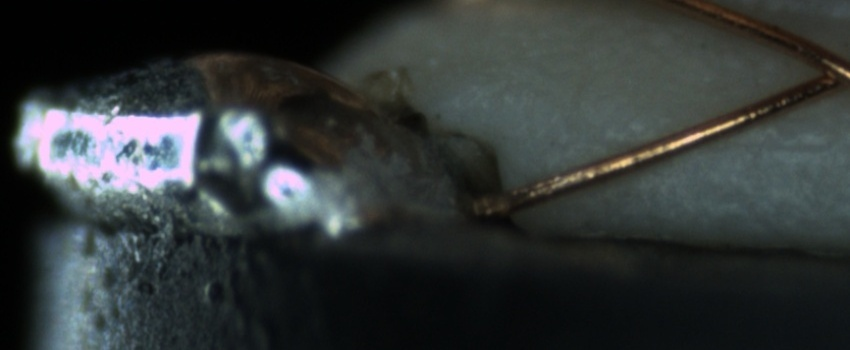CL: (791, 40, 850, 101)
DL: (567, 115, 846, 176)
